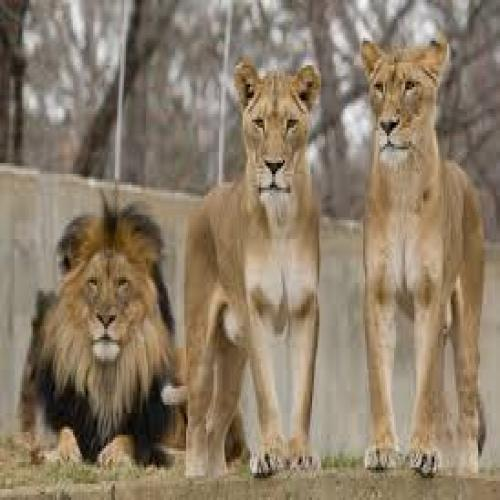lion-endangered: (160, 60, 320, 480), (19, 186, 250, 473), (360, 30, 488, 476)
